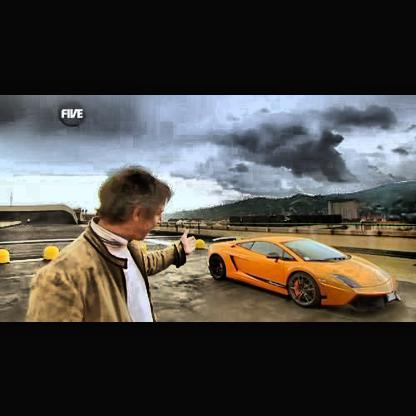Lamborghini Gallardo LP 570-4 Superleggera 2012: (210, 234, 402, 316)
